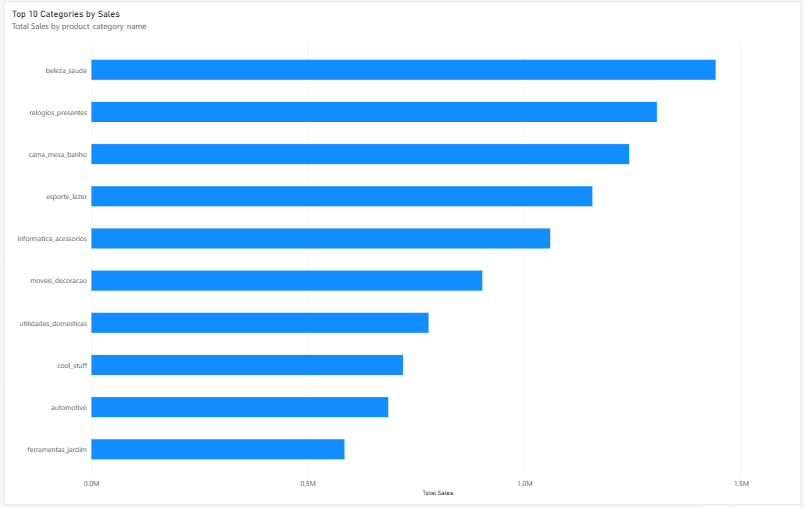

This screenshot's page, from the dashboard's own definition file:
{"tool":"powerbi","page":{"name":"Product Analysis","canvas":[1920,1080],"ordinal":2},"visuals":[{"type":"barChart","title":"Top 10 Categories by Sales","fields":{"Category":["analytics dim_products.product_category_name"],"Y":["fact_sales.Total Sales"]},"box":[155,12.5,1595,1007.5],"z":0}]}

Visuals, with their boxes on the page's 1920x1080 design canvas (x1, y1, x2, y2). These are canvas units, not pixel positions in the 805x508 screenshot, which may show the page scaled, cropped or inside an application window:
"Top 10 Categories by Sales" barChart: box=[155, 12, 1750, 1020]
